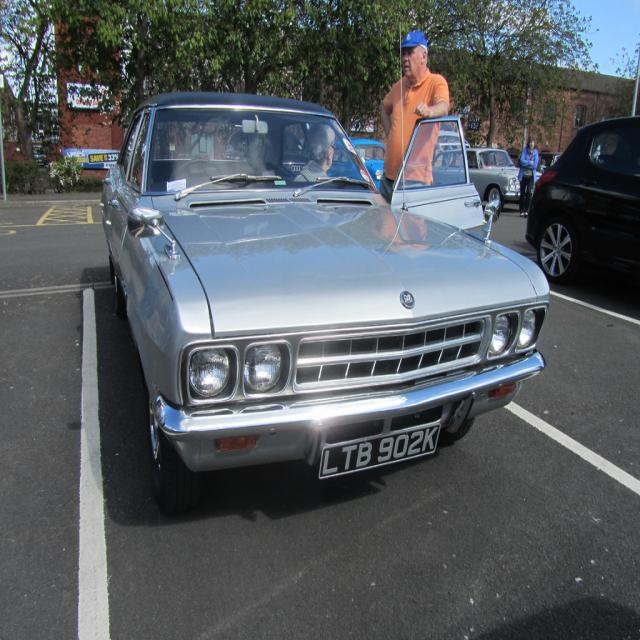car: (100, 86, 544, 506)
